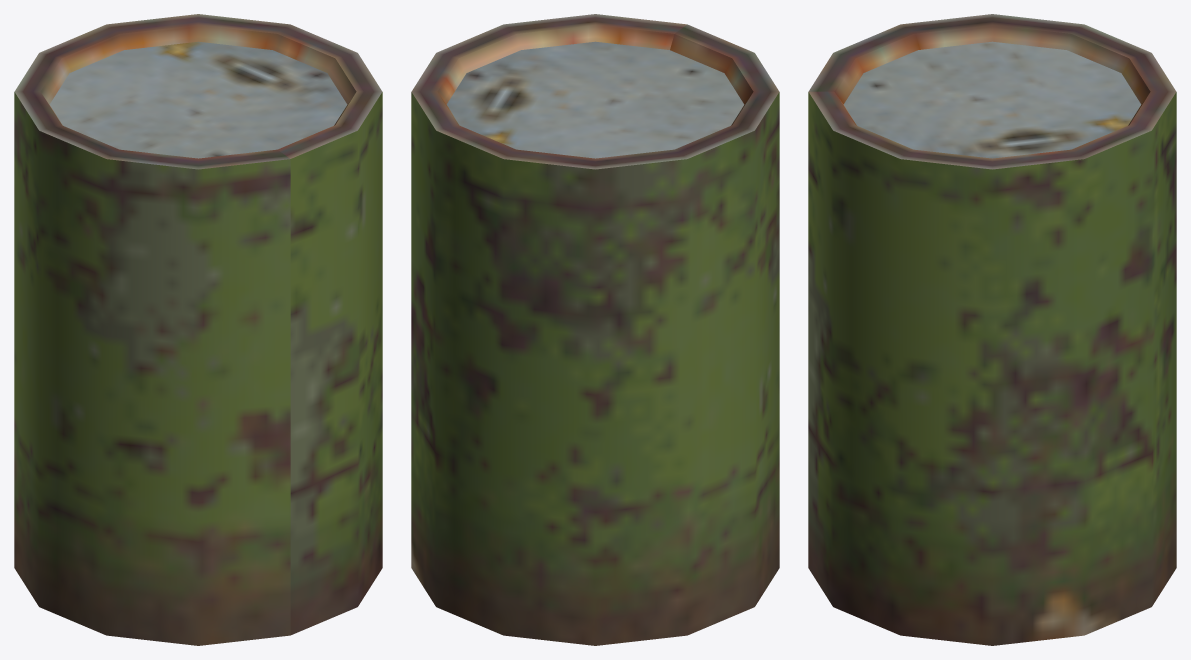
Rendered from SM_SMALLBARREL_04.fbx.
3 views of the same model, side by side, from view 1: azimuth 30°, elevation 25°; view 2: azimuth 150°, elevation 25°; view 3: azimuth 270°, elevation 25° (orthographic).
Parts seen in each view (by area): view 1: SM_SMALLBARREL_04; view 2: SM_SMALLBARREL_04; view 3: SM_SMALLBARREL_04.
Part boxes in pixels (x1,y1,x2,y2): SM_SMALLBARREL_04: (14, 14, 382, 645); SM_SMALLBARREL_04: (411, 14, 779, 645); SM_SMALLBARREL_04: (808, 14, 1176, 645).
Bounding box in the file's own units: 0.7 × 1 × 0.7.
